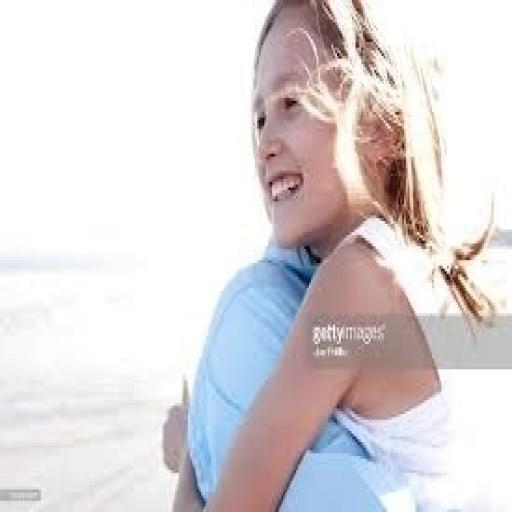hugging: (162, 0, 497, 509)
